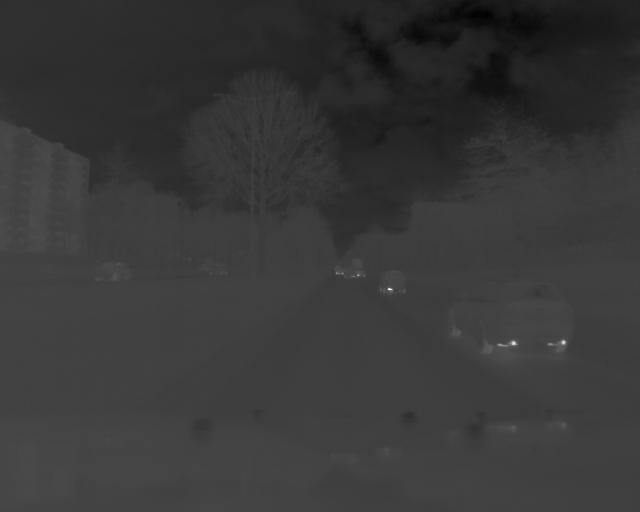car: (445, 272, 579, 358), (91, 258, 135, 284), (378, 269, 407, 299), (334, 258, 368, 282)
